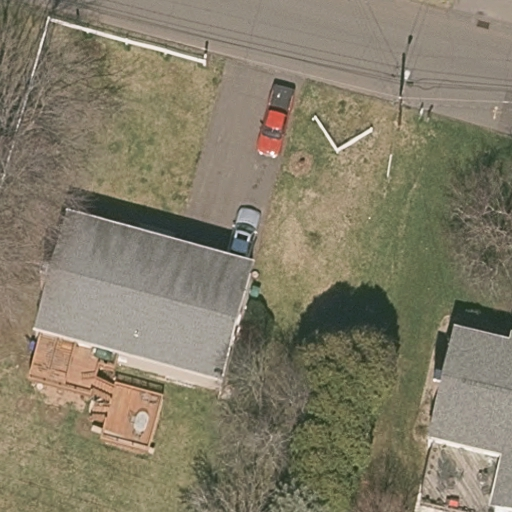DT: (397, 89, 434, 125)
